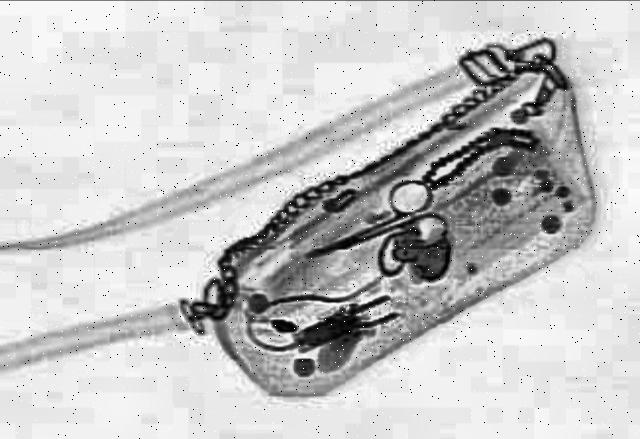Scissors: (276, 172, 469, 281)
